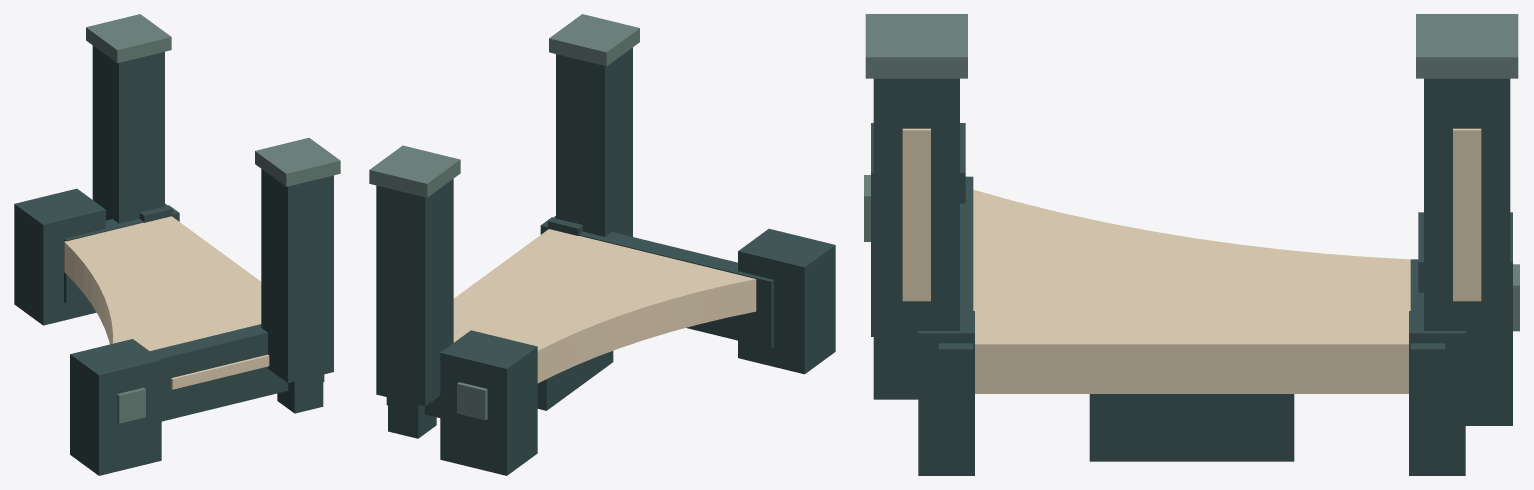
Rendered from Pier_Angled_20_Switch_lab2.glb.
The picture shows the model from 3 angles, left to right: view 1: azimuth 30°, elevation 25°; view 2: azimuth 150°, elevation 25°; view 3: azimuth 270°, elevation 25°; orthographic projection. The views are drawn at different scales.
Visible parts, largest first — view 1: Pier_Angled_20_Switch; view 2: Pier_Angled_20_Switch; view 3: Pier_Angled_20_Switch.
Boxes of the visible parts, left/top/right/bottom form: Pier_Angled_20_Switch: left=14, top=14, right=340, bottom=475; Pier_Angled_20_Switch: left=369, top=14, right=835, bottom=475; Pier_Angled_20_Switch: left=864, top=14, right=1519, bottom=475.
Size of the model in its own units: 2.94 by 2.95 by 4.17.
